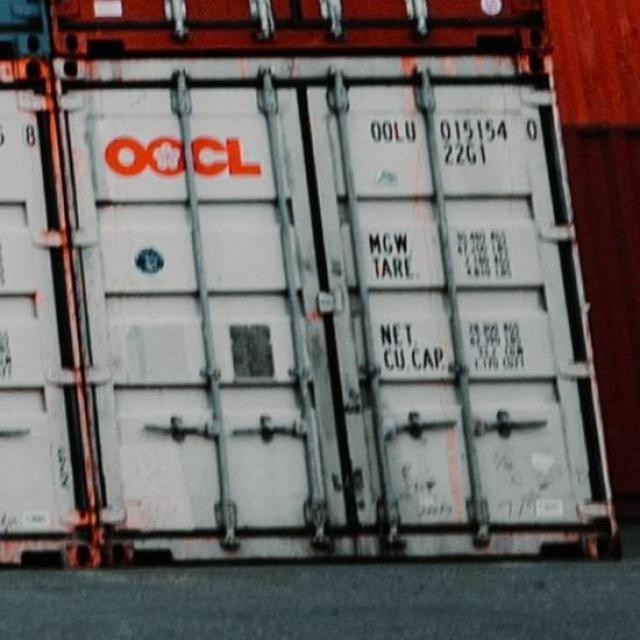ISO: (444, 143, 488, 168)
container_number: (370, 116, 536, 142)
